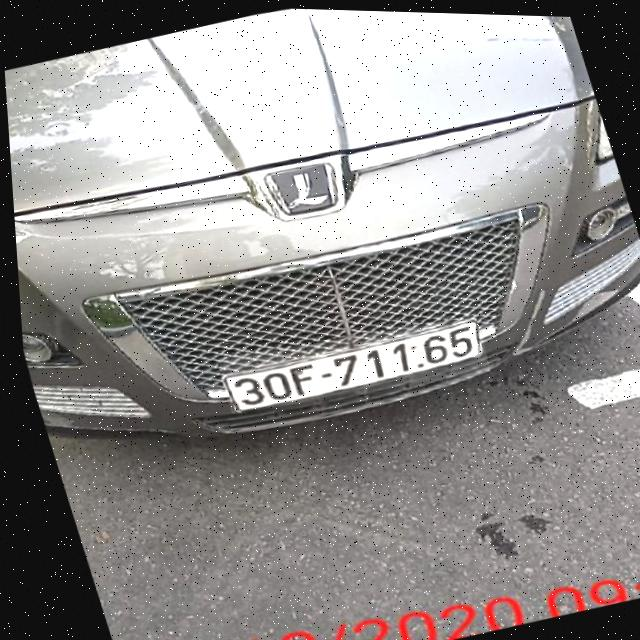car: (0, 0, 640, 515)
plate: (209, 302, 503, 432)
